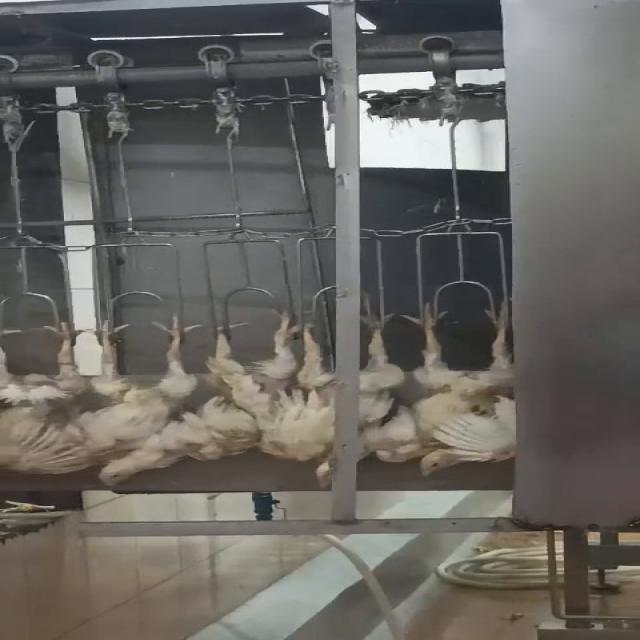chicken: (84, 316, 202, 490), (416, 297, 521, 479), (203, 305, 304, 472), (0, 312, 93, 480), (354, 300, 419, 470), (293, 310, 338, 488)
